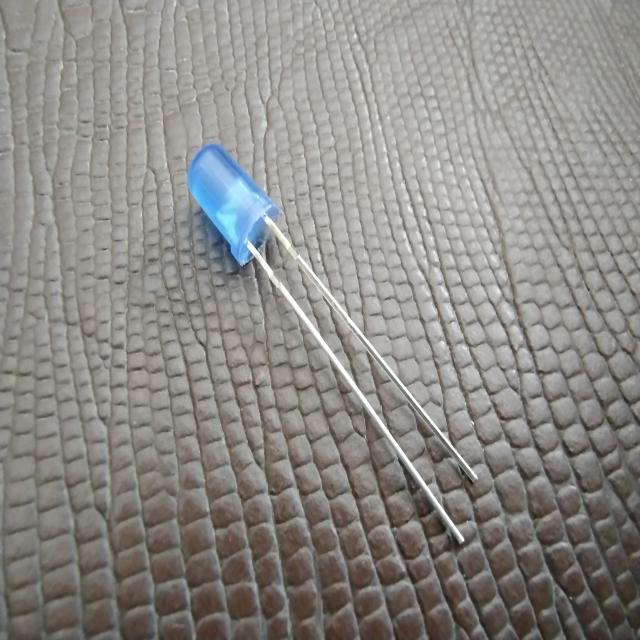blue_led: (186, 141, 280, 267)
